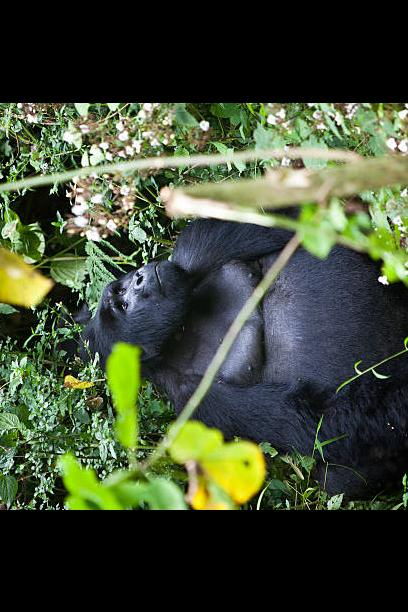goriile_montagne: (63, 198, 408, 478)
